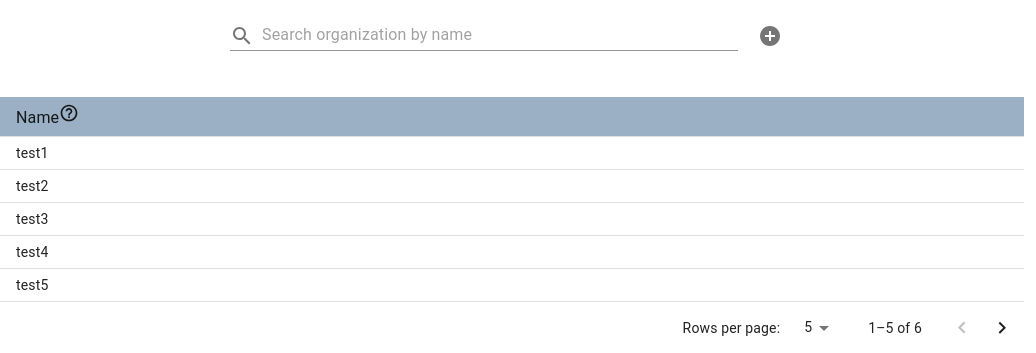
Entity table › should let the user filter entity by name
Type "test1" into the field labelled "Search organization by name" at (500, 36), box [262,22,738,50]
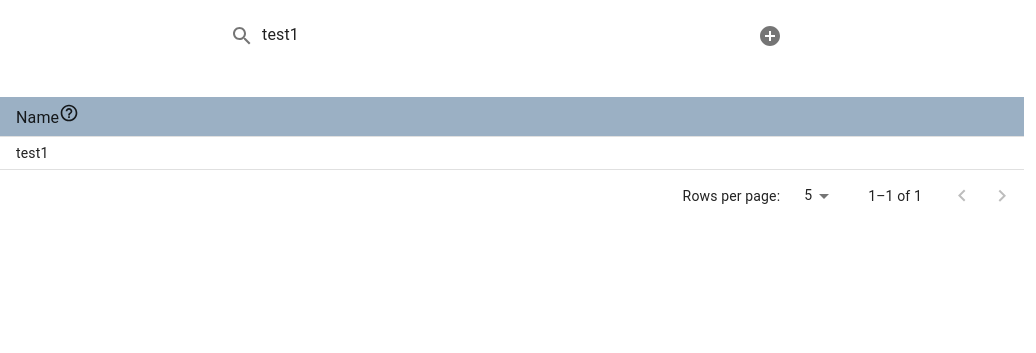
Check: the text "test2" is gone
Check: the text "test3" is gone
Check: the text "test4" is gone
